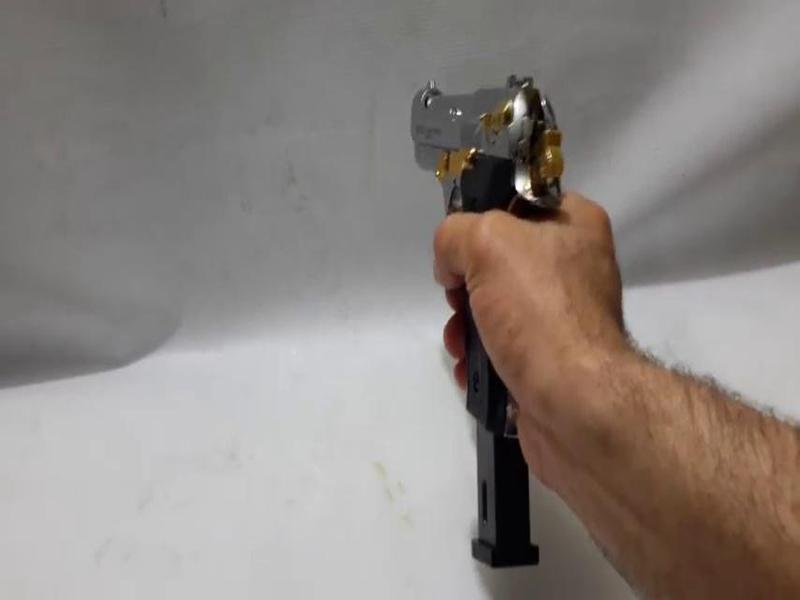Pistola: (359, 43, 589, 424)
